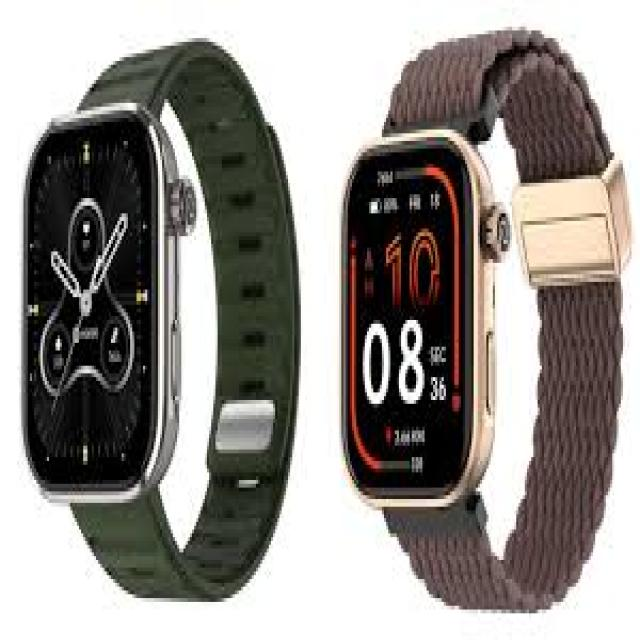objects: (23, 38, 298, 600), (386, 286, 621, 609), (341, 127, 510, 519), (384, 30, 608, 179)
